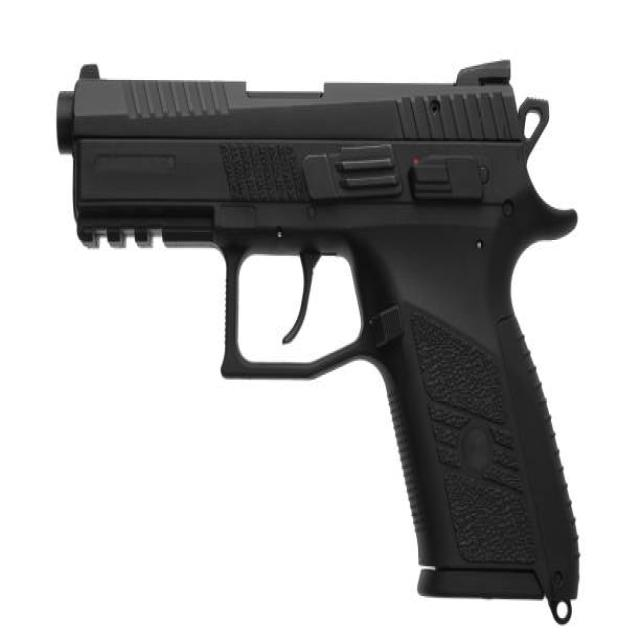pistol: (52, 50, 595, 628)
